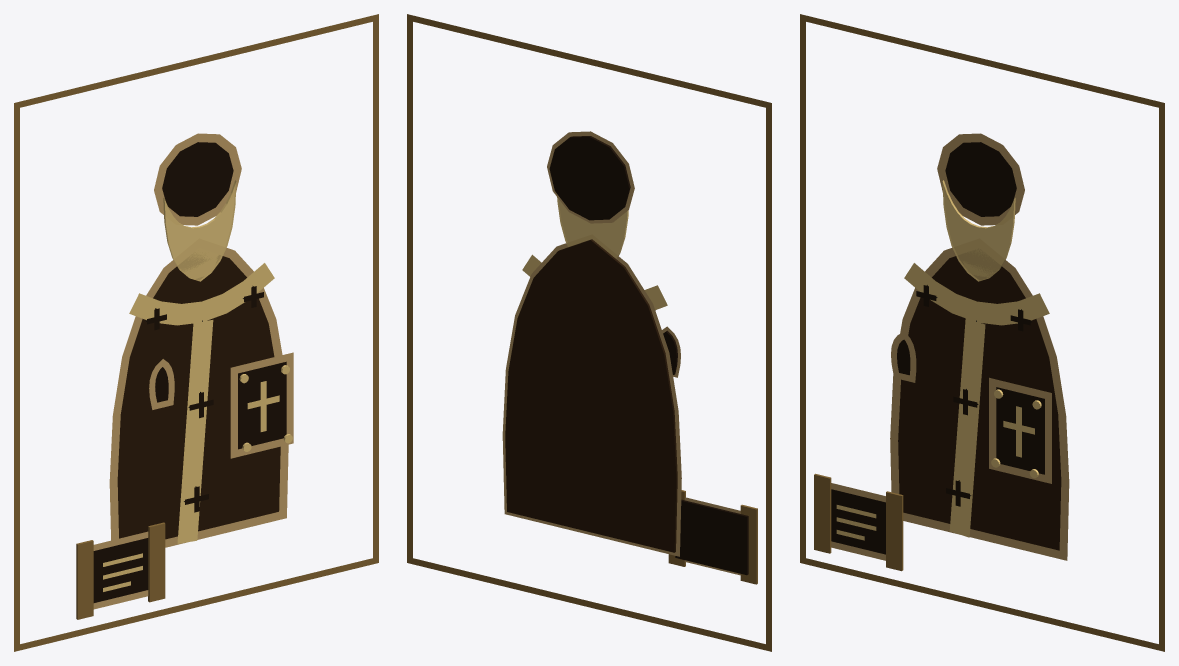
Rendered from npc-photius.glb.
3 renders of one model, left to right at view 1: azimuth 30°, elevation 25°; view 2: azimuth 150°, elevation 25°; view 3: azimuth 330°, elevation 25°, orthographic.
Visible parts, largest first — view 1: npc-photius; view 2: npc-photius; view 3: npc-photius.
Part boxes in pixels (x1=…): npc-photius: x1=14, y1=14, x2=378, y2=651; npc-photius: x1=407, y1=14, x2=771, y2=651; npc-photius: x1=800, y1=14, x2=1164, y2=651.
Size of the model in its own units: 1.14 by 1.64 by 0.1429.
